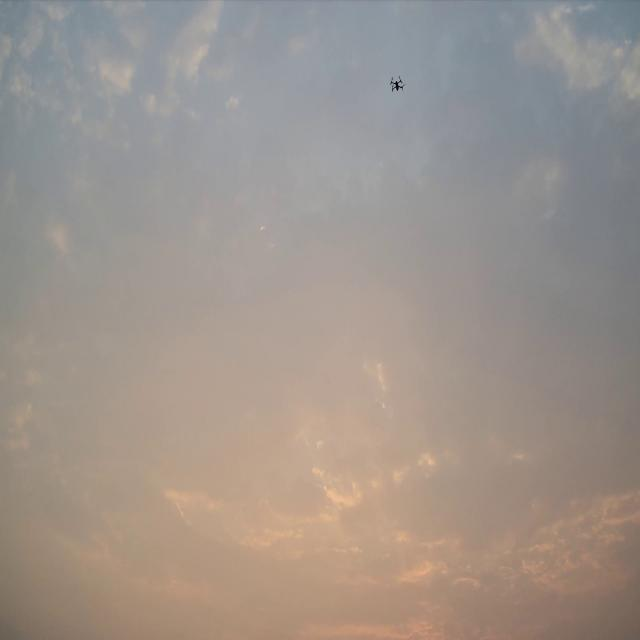drone: (390, 75, 405, 92)
